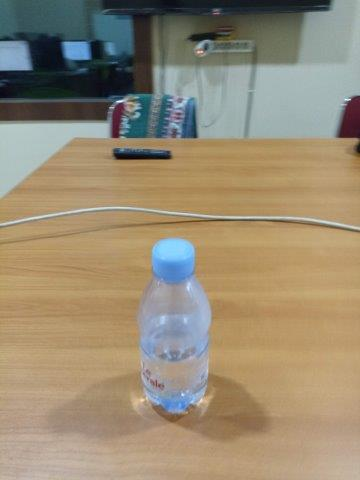botolplastik: (136, 237, 213, 414)
